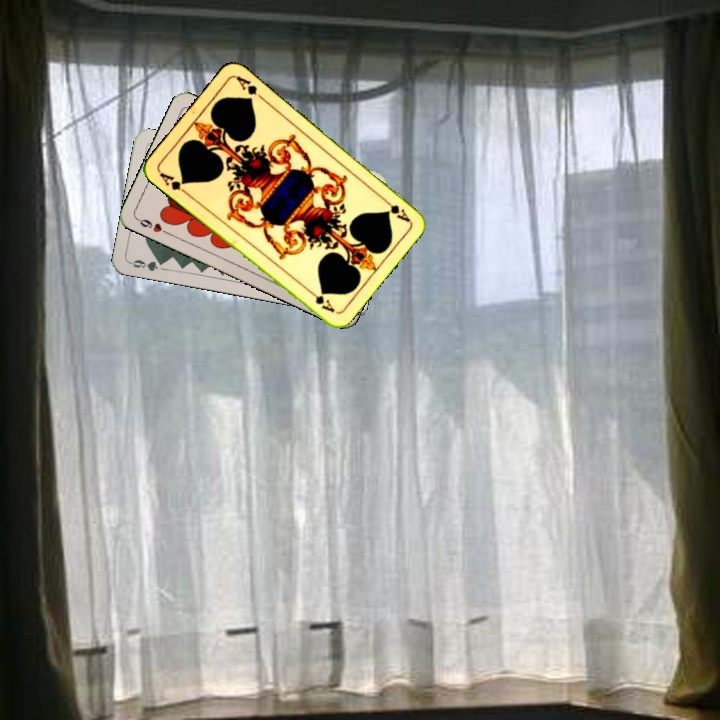G9: (126, 256, 167, 274)
GA: (378, 194, 413, 224), (155, 168, 190, 197)
H9: (133, 214, 171, 237)
